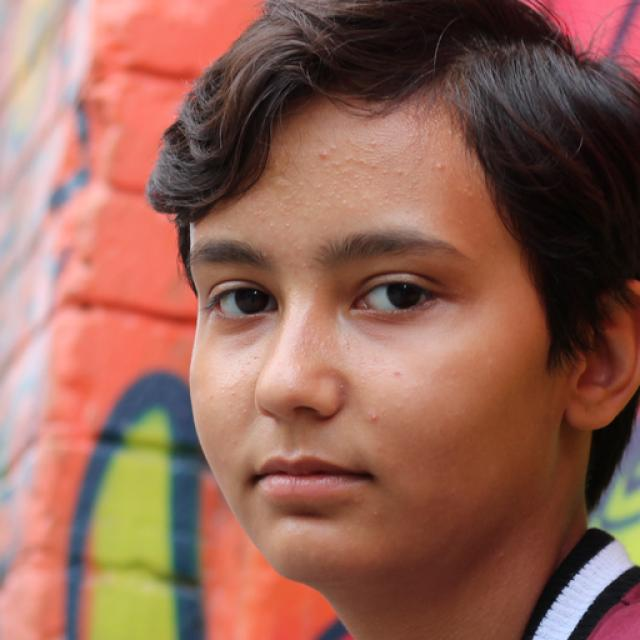Acne: (313, 135, 348, 164), (326, 378, 350, 398), (363, 410, 383, 430), (431, 159, 455, 174)
